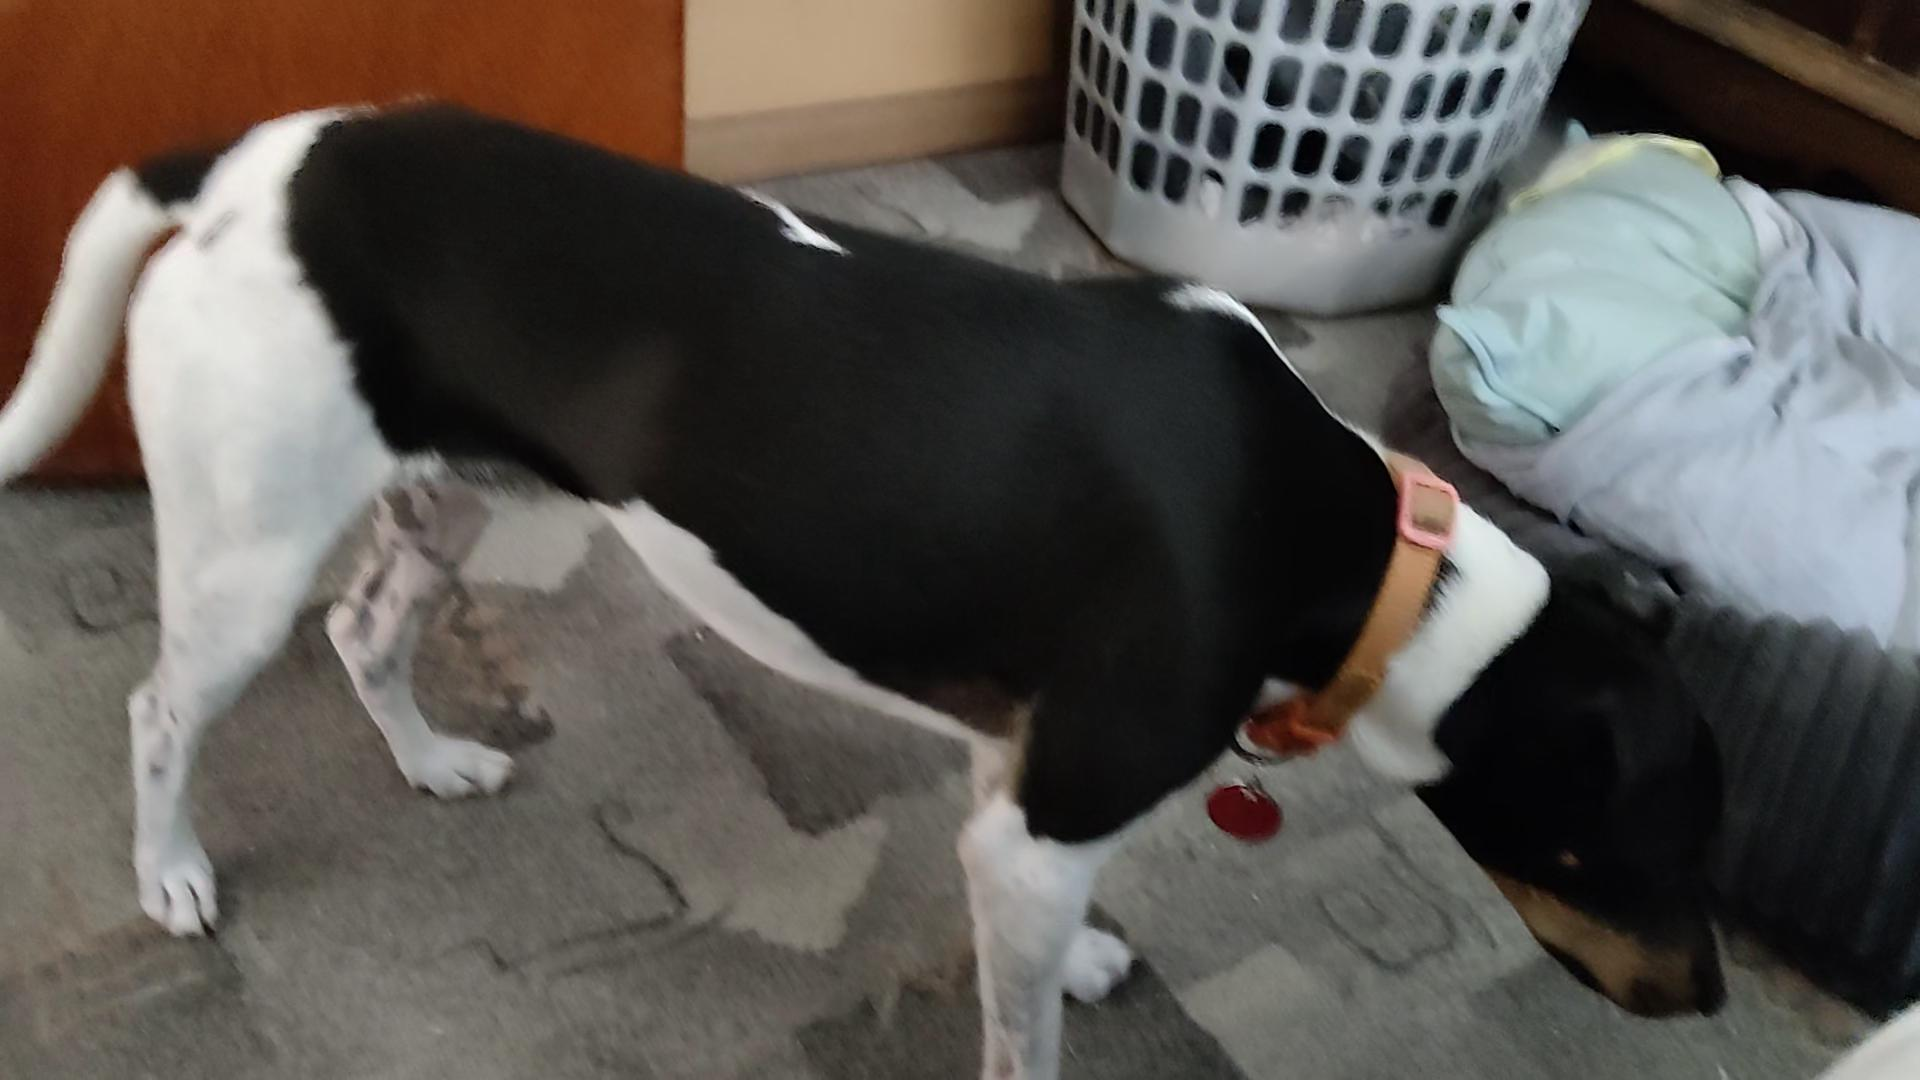Dog: (0, 87, 1735, 1079)
